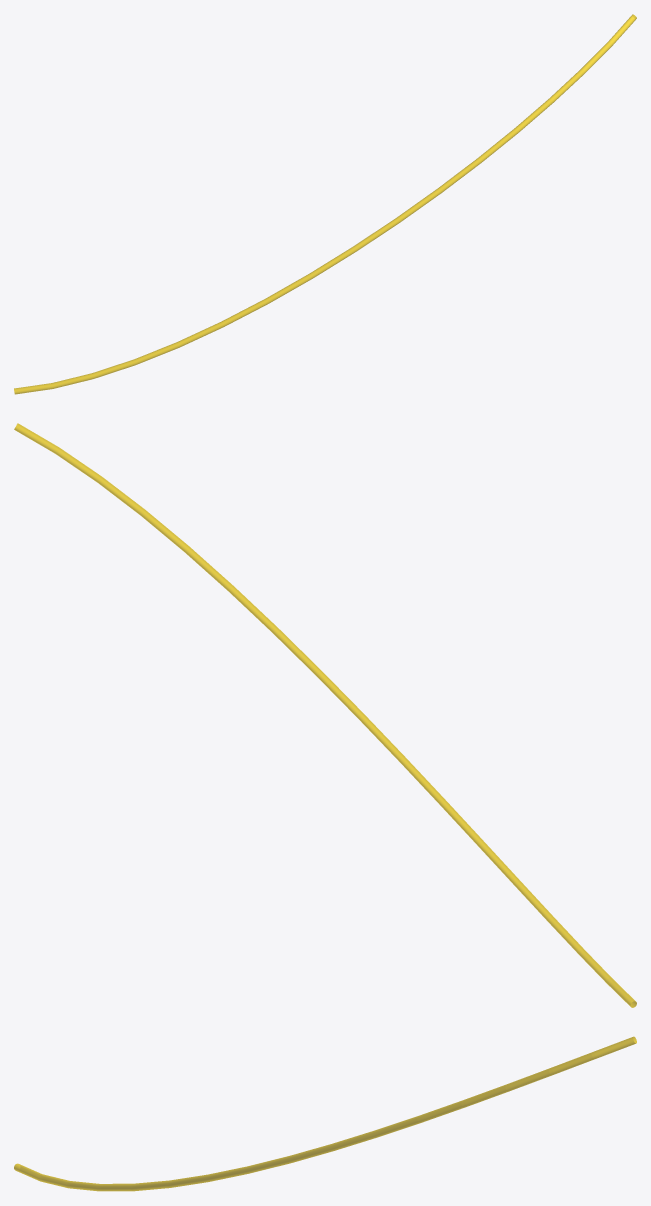
The model's file is Event_17758602_track_14.fbx.
The picture shows the model from 3 angles, top to bottom: view 1: azimuth 30°, elevation 25°; view 2: azimuth 150°, elevation 25°; view 3: azimuth 330°, elevation 25°; orthographic projection. The views are drawn at different scales.
Visible parts, largest first — view 1: Model; view 2: Model; view 3: Model.
Part boxes in pixels (left/top/right/bottom): Model: left=14, top=14, right=636, bottom=394; Model: left=14, top=423, right=636, bottom=1007; Model: left=14, top=1036, right=636, bottom=1191.
Size of the model in its own units: 4.24 by 2.09 by 0.9758.
